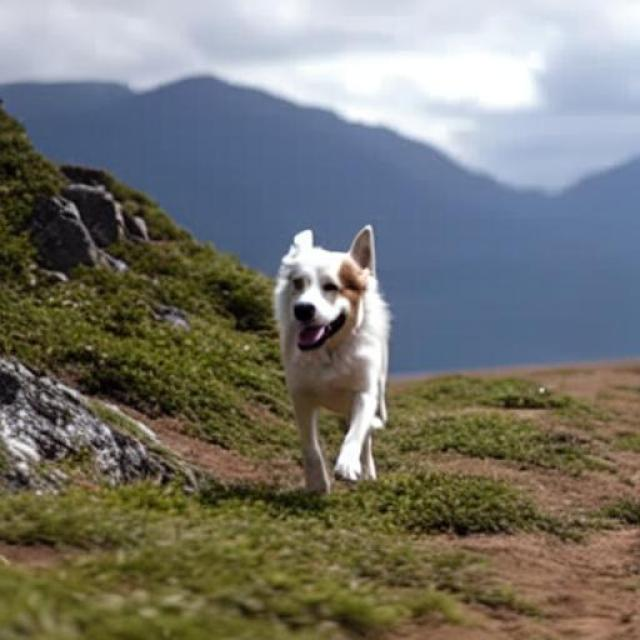Dog: (275, 224, 393, 494)
